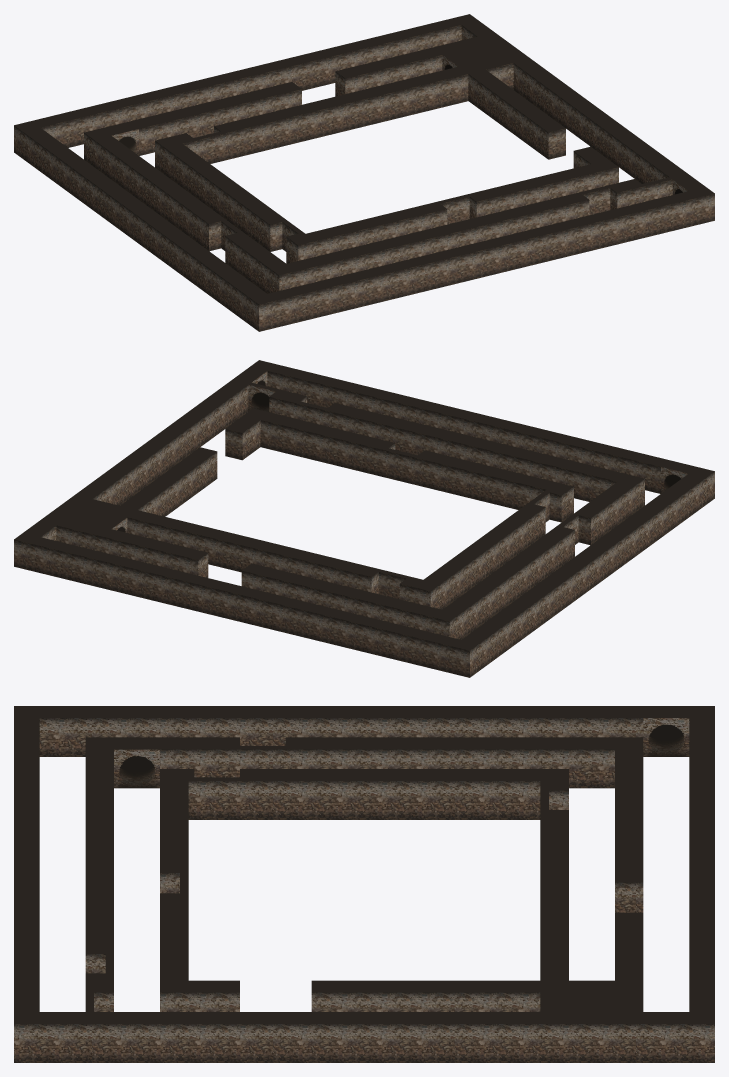
The model's file is Cenario_04_paredes.fbx.
3 views of the same model, one above another, from view 1: azimuth 30°, elevation 25°; view 2: azimuth 150°, elevation 25°; view 3: azimuth 270°, elevation 25° (orthographic). The views are drawn at different scales.
Visible parts, largest first — view 1: paredes; view 2: paredes; view 3: paredes.
Boxes of the visible parts, <box> form: paredes: <box>14,14,714,331</box>; paredes: <box>14,360,714,677</box>; paredes: <box>14,706,714,1062</box>.
Bounding box in the file's own units: 263 × 15 × 245.
